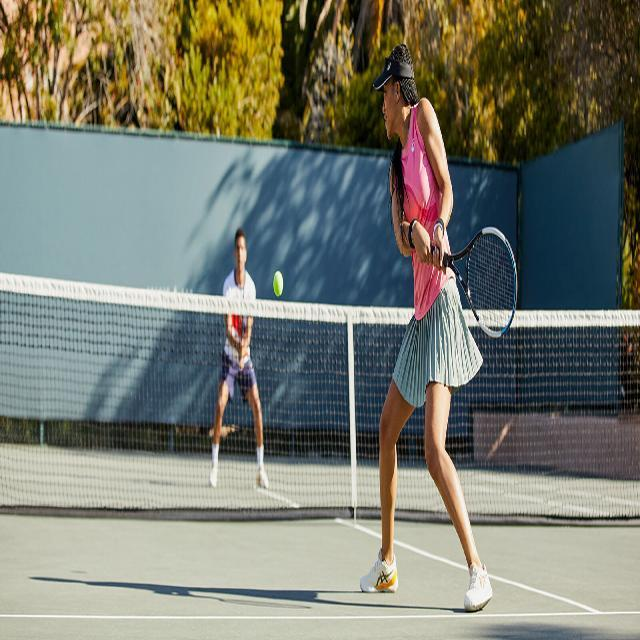net: (0, 267, 640, 518)
player: (356, 43, 516, 612)
